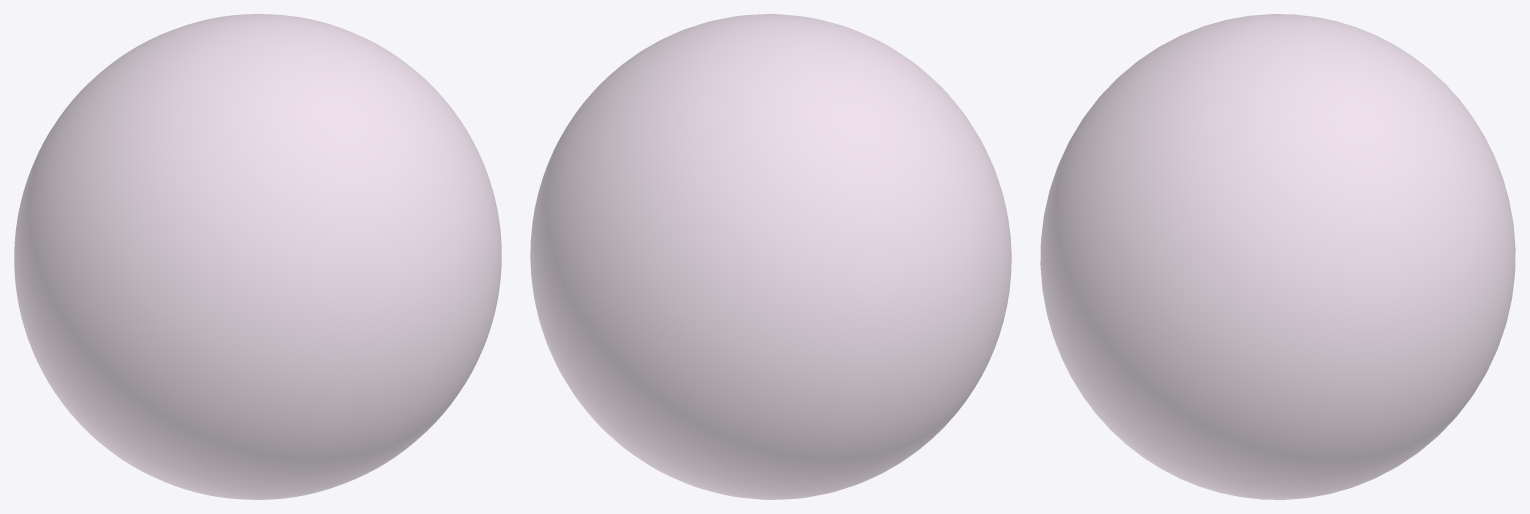
The model's file is bubble-a.gltf.
The picture shows the model from 3 angles, left to right: view 1: azimuth 30°, elevation 25°; view 2: azimuth 150°, elevation 25°; view 3: azimuth 270°, elevation 25°; orthographic projection.
Parts seen in each view (by area): view 1: Soap; view 2: Soap; view 3: Soap.
Part boxes in pixels (x1,y1,x2,y2): Soap: (14,14,501,499); Soap: (530,14,1011,499); Soap: (1040,14,1515,499).
Bounding box in the file's own units: 4.99 × 5 × 4.89.
